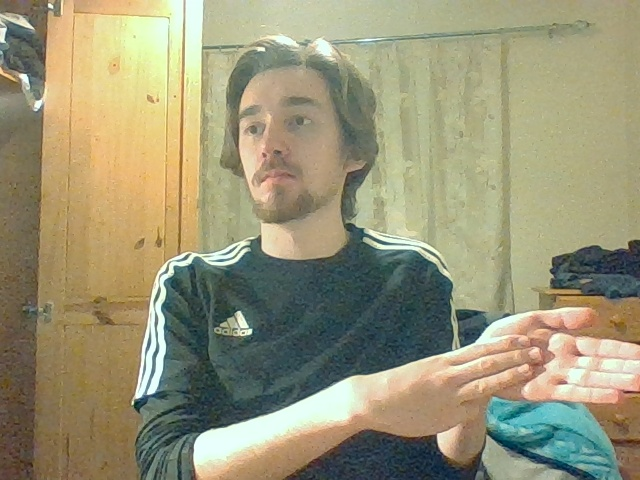mother: (478, 306, 640, 406)
